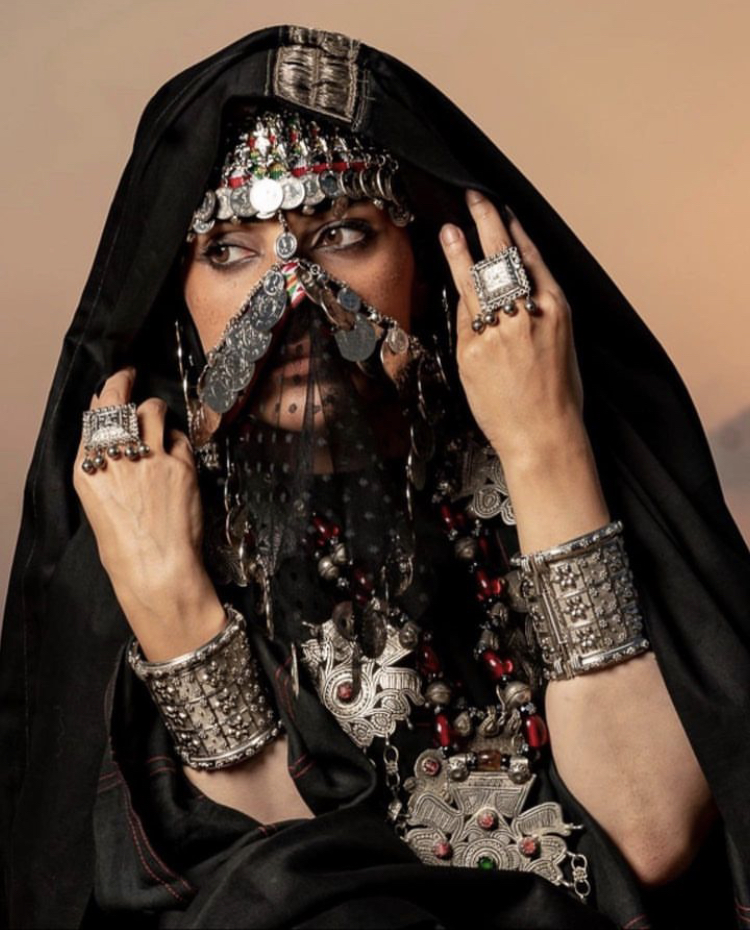Saudi_Founding_Day: (5, 21, 749, 930)
